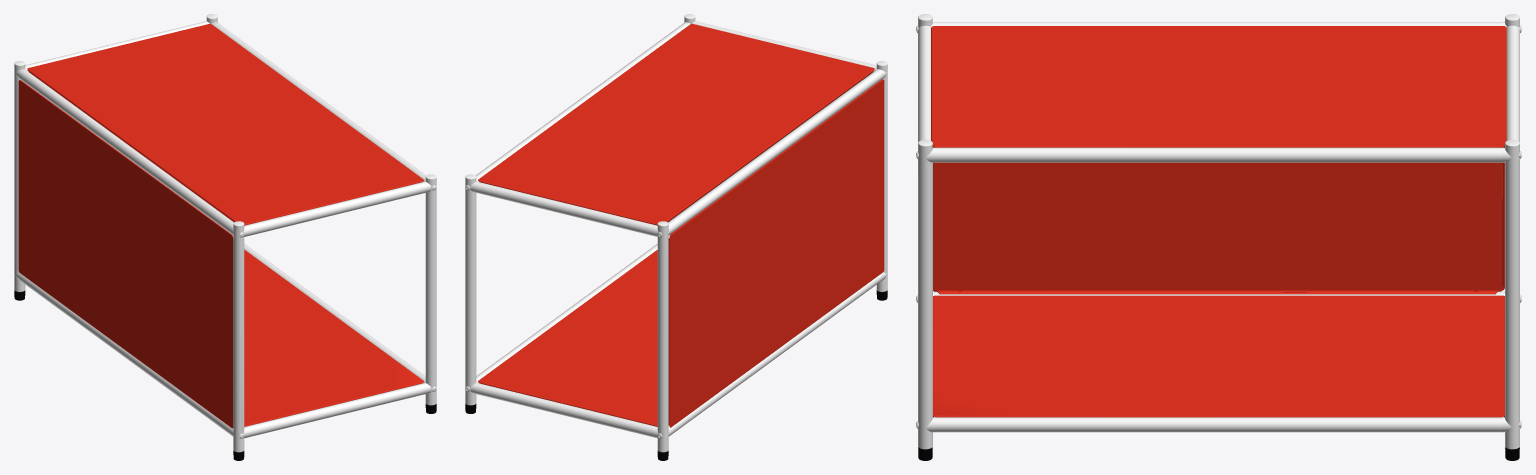
File: 80x40x40-1-2-red_optimized_optimized.glb
3 views of the same model, side by side, from view 1: azimuth 30°, elevation 25°; view 2: azimuth 150°, elevation 25°; view 3: azimuth 270°, elevation 25° (orthographic). The views are drawn at different scales.
Visible parts, largest first — view 1: 直角鐵板-80x40-5 - 零件, new-上塞-1 - 零件; view 2: 直角鐵板-80x40-5 - 零件, new-上塞-1 - 零件; view 3: 直角鐵板-80x40-5 - 零件, new-上塞-1 - 零件.
Part boxes in pixels (<box>): 直角鐵板-80x40-5 - 零件: <box>18,23,423,428</box>; new-上塞-1 - 零件: <box>14,14,436,452</box>; 直角鐵板-80x40-5 - 零件: <box>478,23,884,427</box>; new-上塞-1 - 零件: <box>465,14,887,452</box>; 直角鐵板-80x40-5 - 零件: <box>931,26,1506,417</box>; new-上塞-1 - 零件: <box>916,14,1521,449</box>.
Size of the model in its own units: 0.3992 by 0.4453 by 0.7732.
